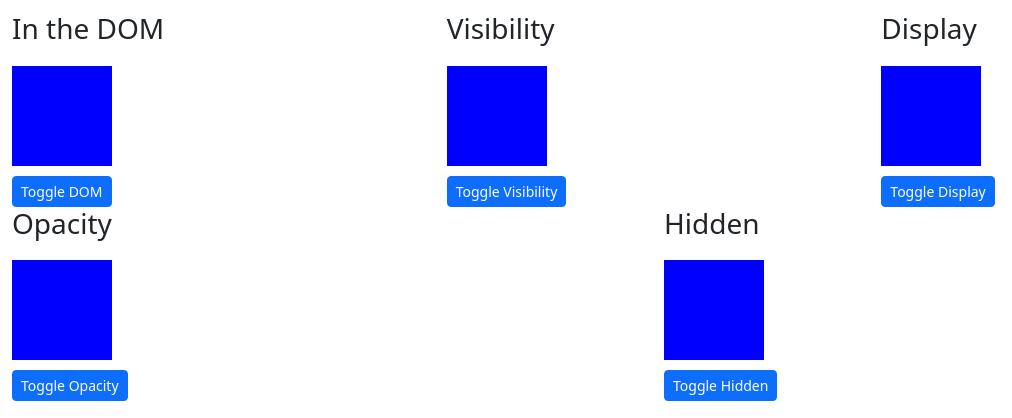
Test: Visibility tests › Toggle Visibility
This screenshot has width=1012, height=418.
Check: the element with test id "visibility" is shown, box [447,66,547,166]
Click the button "Toggle Visibility" at (506,191), box [447,176,566,207]
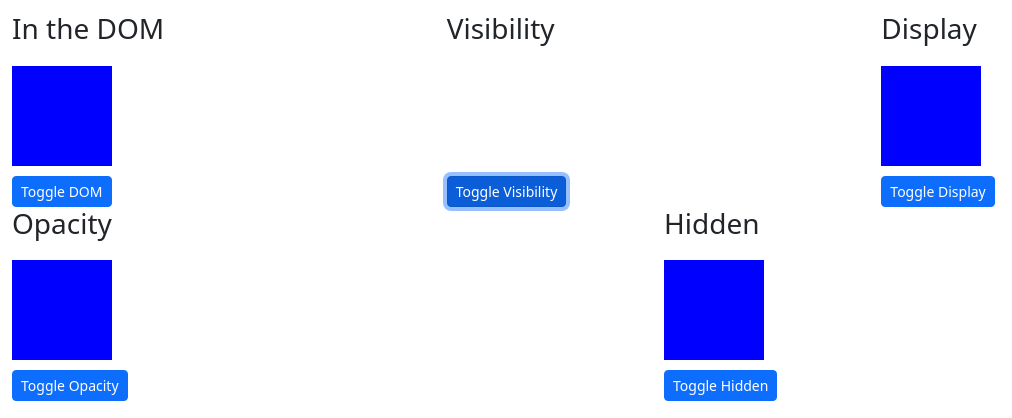
Check: the element with test id "visibility" is gone
